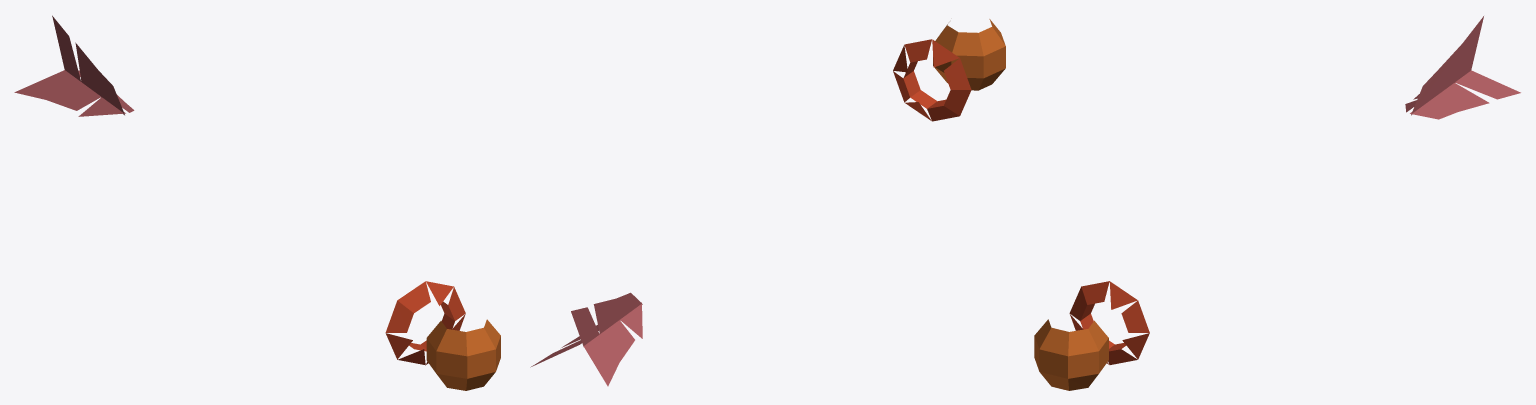
The model's file is arrow-combustive.lod.glb.
3 views of the same model, side by side, from view 1: azimuth 30°, elevation 25°; view 2: azimuth 150°, elevation 25°; view 3: azimuth 330°, elevation 25° (orthographic). The views are drawn at different scales.
Visible parts, largest first — view 1: m; view 2: m; view 3: m.
Boxes of the visible parts, <box> form: m: <box>14,15,500,390</box>; m: <box>530,19,1005,386</box>; m: <box>1034,16,1520,390</box>.
Size of the model in its own units: 0.0301 by 0.03 by 0.2761.
